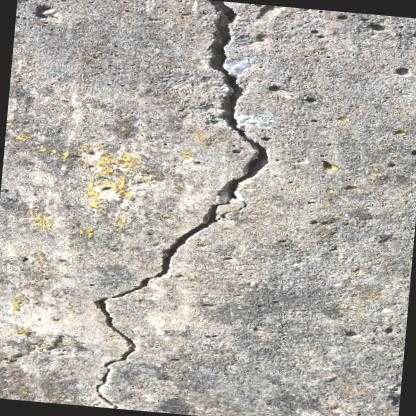crack: (94, 0, 272, 409)
